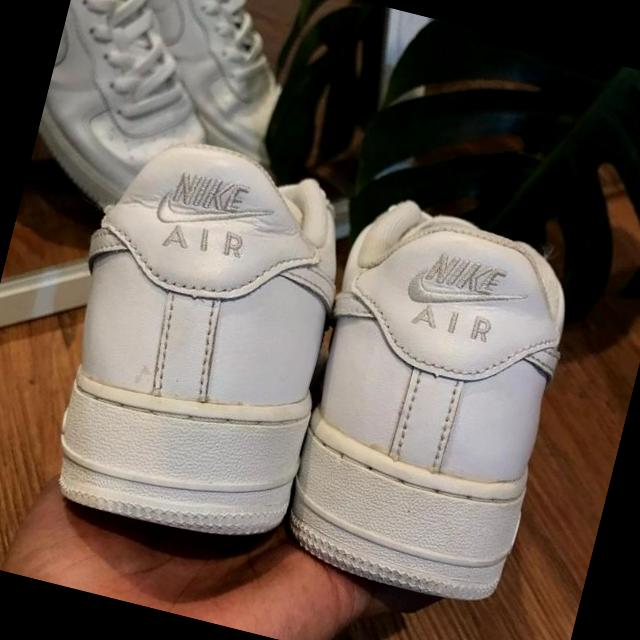nike_fake_airforce: (62, 120, 372, 414), (301, 190, 593, 473)
